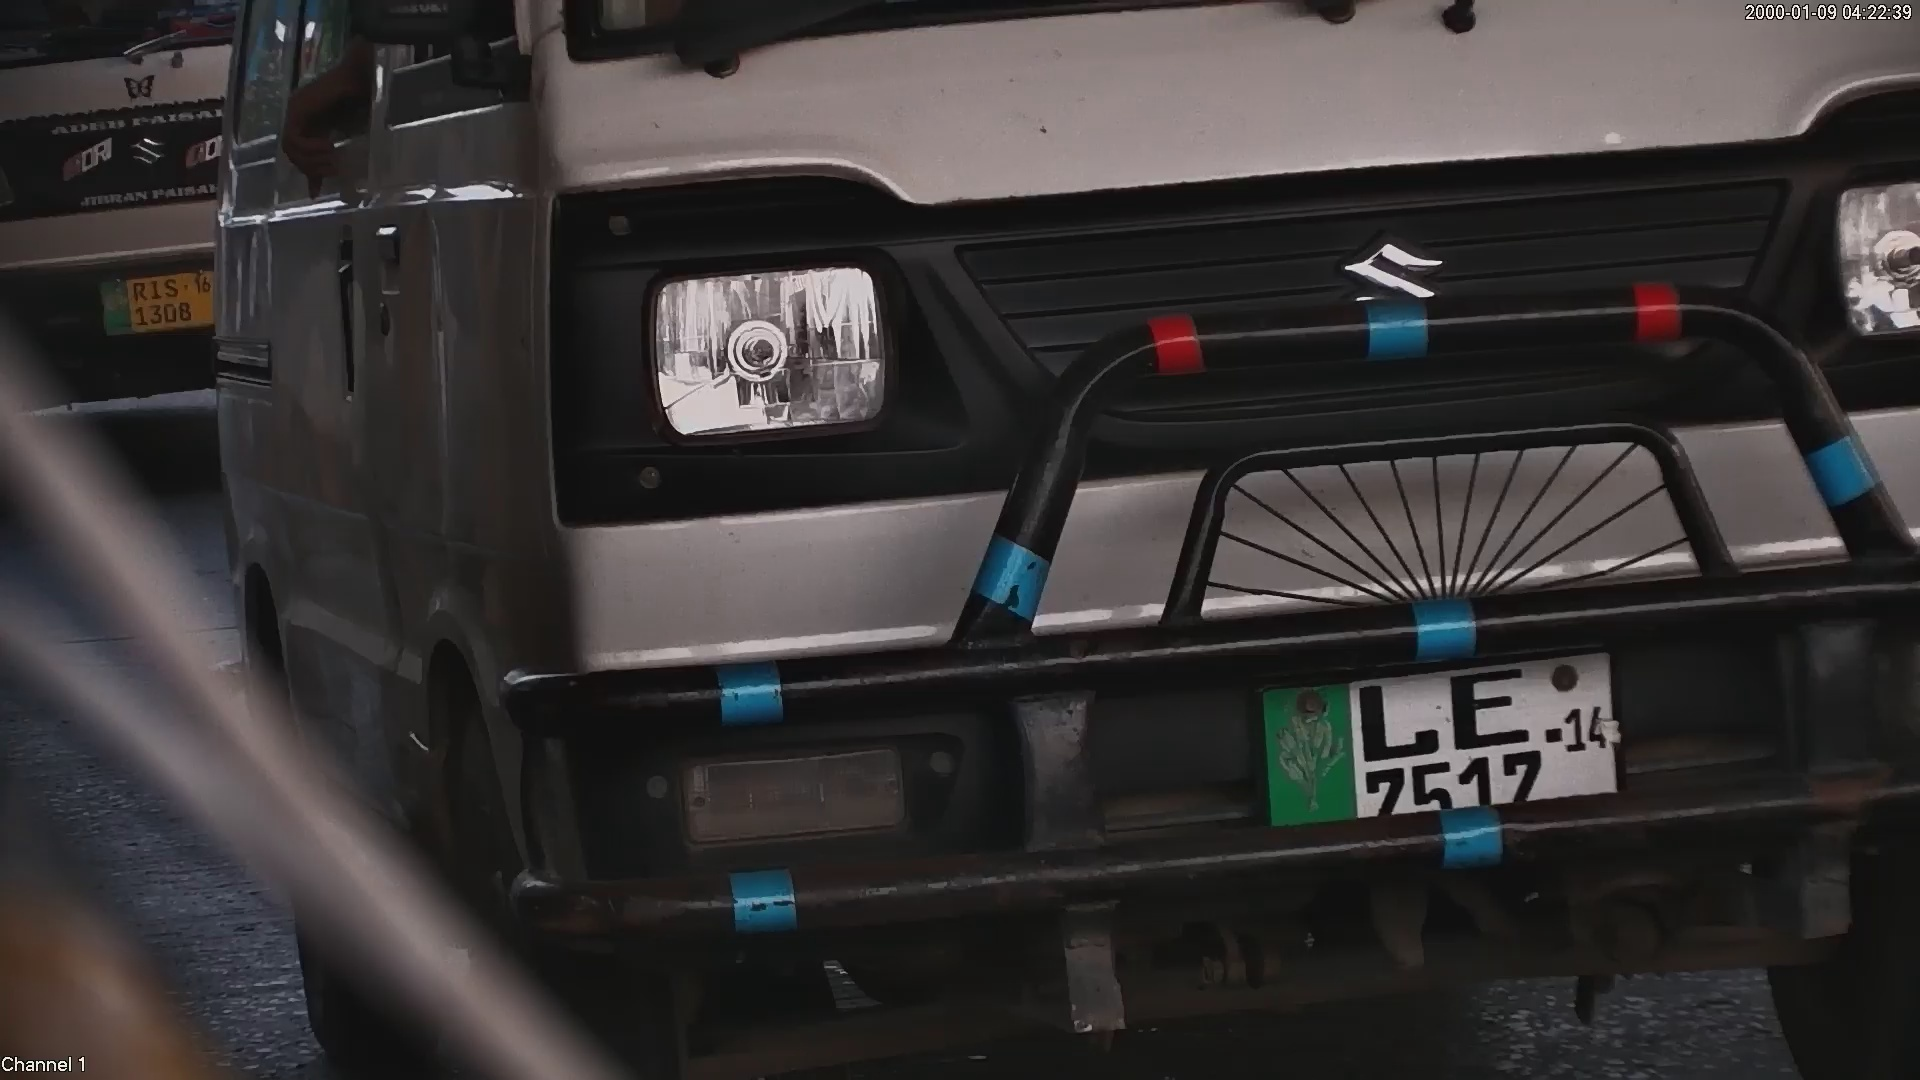Number_Plate: (1217, 625, 1654, 833)
Undefined: (615, 244, 921, 462), (617, 716, 963, 855), (1319, 236, 1460, 346)
